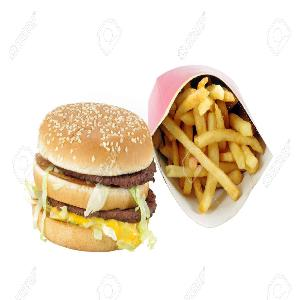cheeseburger: (31, 92, 154, 264)
fries: (159, 86, 265, 216)
